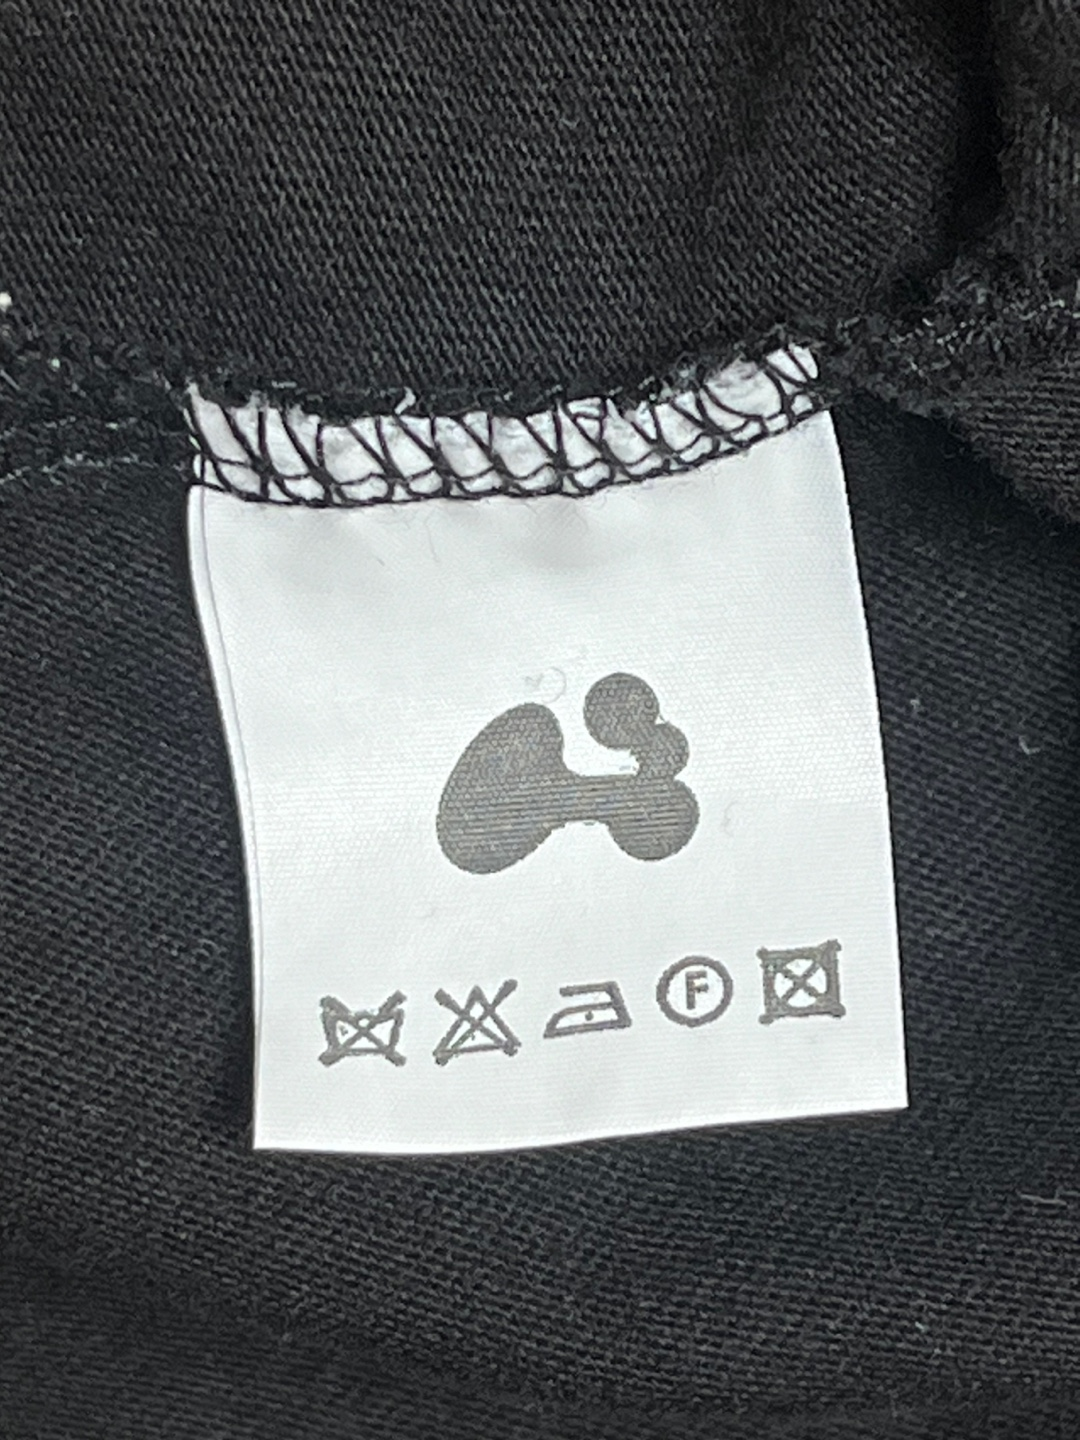DN_bleach: (423, 971, 533, 1073)
DN_tumble_dry: (750, 933, 857, 1033)
DN_wash: (305, 981, 415, 1079)
dry_clean_any_solvent_except_trichloroethylene: (647, 946, 742, 1034)
iron_low: (539, 971, 640, 1047)
